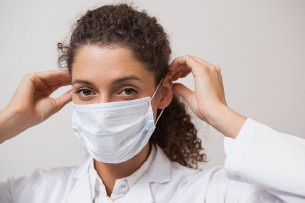Mask: (68, 67, 161, 159)
